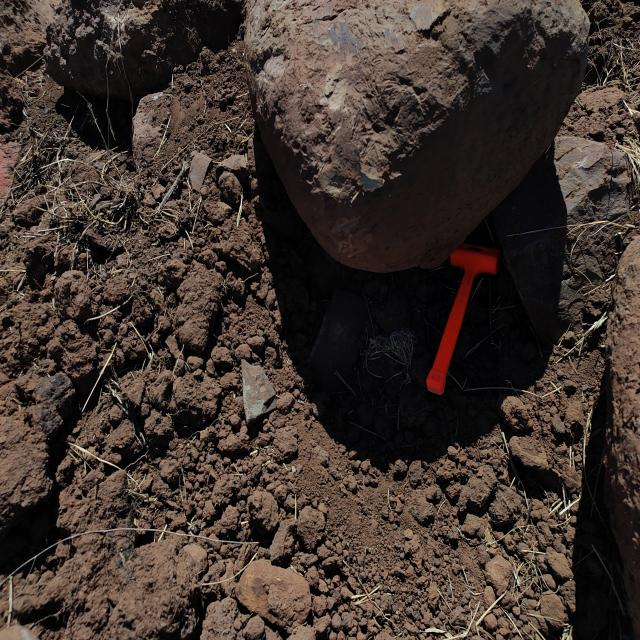Orange_hammer: (425, 242, 499, 396)
